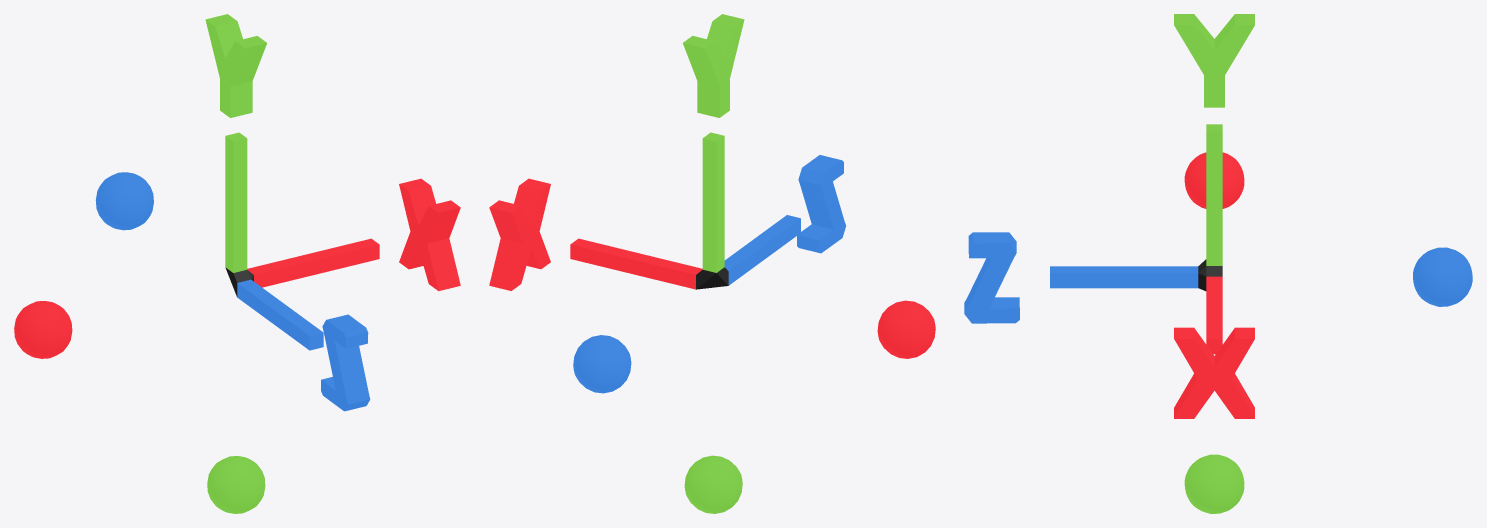
File: gimbal.glb
The picture shows the model from 3 angles, left to right: view 1: azimuth 30°, elevation 25°; view 2: azimuth 150°, elevation 25°; view 3: azimuth 270°, elevation 25°; orthographic projection. The views are drawn at different scales.
Visible parts, largest first — view 1: gimbal, x, y, z; view 2: gimbal, x, y, z; view 3: gimbal, x, z, y.
Part boxes in pixels (x1,y1,x2,y2): gimbal: [14, 132, 379, 513]; x: [399, 178, 460, 291]; y: [205, 14, 266, 117]; z: [321, 314, 370, 411]; gimbal: [570, 132, 935, 513]; x: [489, 178, 550, 290]; y: [683, 14, 744, 117]; z: [797, 155, 845, 253]; gimbal: [1050, 124, 1472, 513]; x: [1174, 327, 1254, 418]; z: [964, 232, 1019, 323]; y: [1174, 14, 1254, 107].
Bounding box in the file's own units: 0.7429 × 0.806 × 0.7547.
